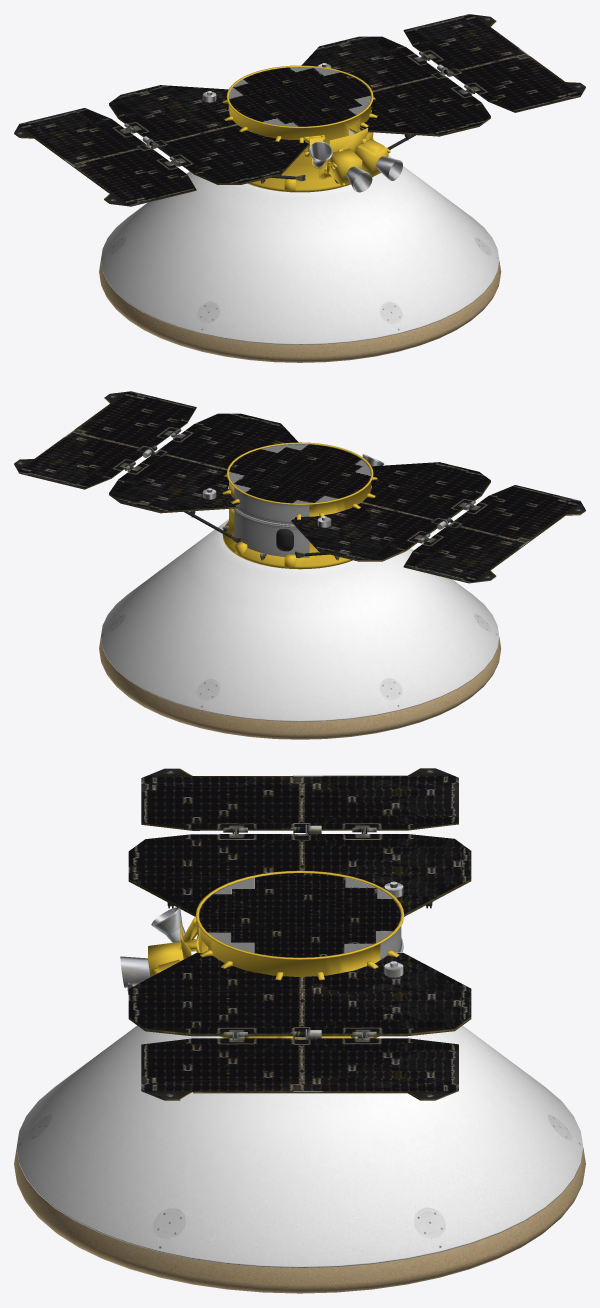
File: phoenix_cruise.gltf
The picture shows the model from 3 angles, top to bottom: view 1: azimuth 30°, elevation 25°; view 2: azimuth 150°, elevation 25°; view 3: azimuth 270°, elevation 25°; orthographic projection. The views are drawn at different scales.
Visible parts, largest first — view 1: back_shell, panels_center, panel_L, panel_R, heat_shield, cruise_stage_top, cruise_stage, parts_gold, cams; view 2: back_shell, panels_center, panel_L, panel_R, heat_shield, cruise_stage_top, cruise_stage_side_pnl, cruise_stage, parts_gold; view 3: back_shell, panels_center, panel_R, panel_L, heat_shield, cruise_stage_top, cruise_stage, parts_gold, cams.
Part boxes in pixels (x1,y1,x2,y2): back_shell: (101, 155, 499, 344); panels_center: (109, 36, 490, 184); panel_L: (14, 108, 196, 206); panel_R: (403, 14, 585, 112); heat_shield: (99, 260, 501, 362); cruise_stage_top: (229, 67, 371, 126); cruise_stage: (226, 65, 373, 192); parts_gold: (222, 97, 390, 190); cams: (309, 141, 402, 192); back_shell: (101, 519, 499, 721); panels_center: (109, 413, 490, 561); panel_L: (403, 485, 585, 583); panel_R: (14, 391, 196, 489); heat_shield: (99, 637, 501, 739); cruise_stage_top: (229, 444, 371, 503); cruise_stage_side_pnl: (233, 488, 309, 557); cruise_stage: (222, 442, 373, 569); parts_gold: (222, 474, 377, 567); back_shell: (16, 1025, 583, 1267); panels_center: (128, 824, 471, 1038); panel_R: (141, 1029, 458, 1100); panel_L: (141, 768, 458, 833); heat_shield: (14, 1148, 585, 1293); cruise_stage_top: (198, 873, 401, 957); cruise_stage: (195, 870, 404, 1038); parts_gold: (148, 916, 399, 1038); cams: (120, 907, 185, 994).
Size of the model in its own units: 3.6 by 1.77 by 2.63.
13 materials, 9 textured.
